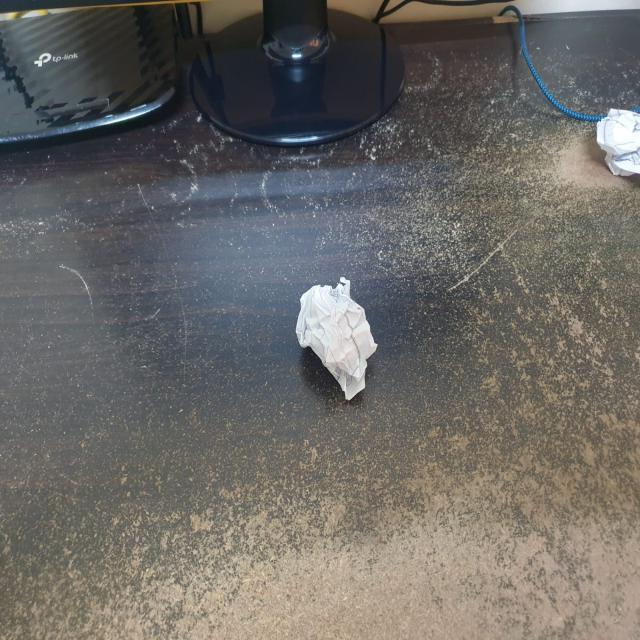Paper: (301, 284, 374, 397)
